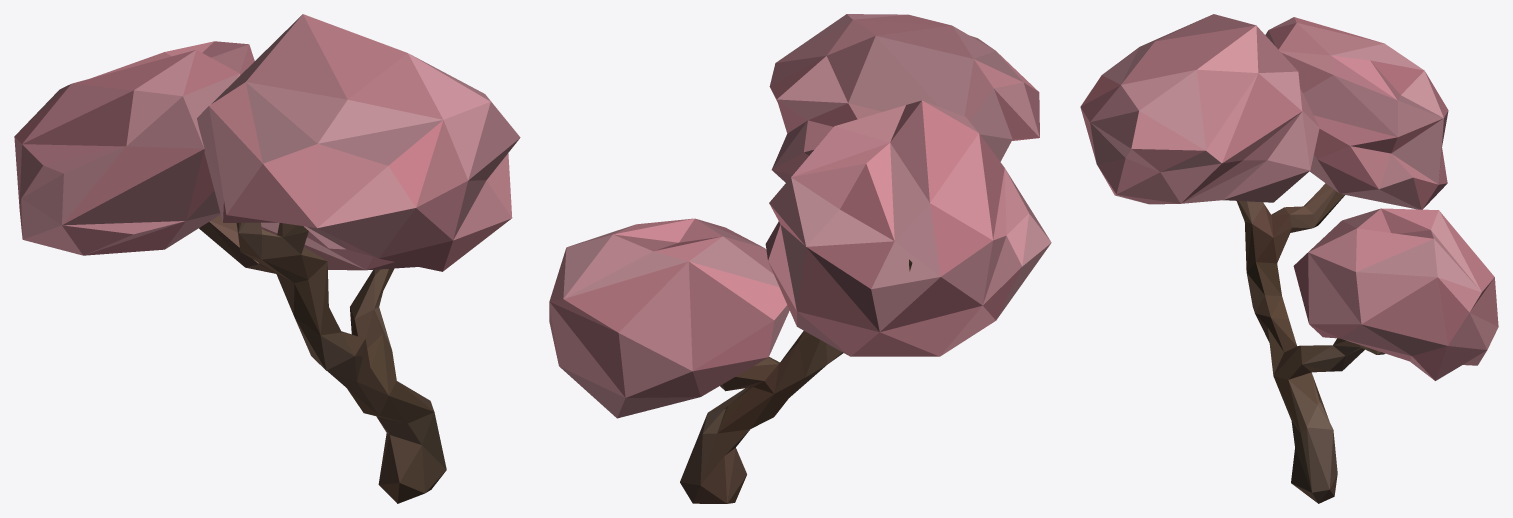
File: Tree_BlossomB__cv1.fbx
The picture shows the model from 3 angles, left to right: view 1: azimuth 30°, elevation 25°; view 2: azimuth 150°, elevation 25°; view 3: azimuth 270°, elevation 25°; orthographic projection. The views are drawn at different scales.
Parts seen in each view (by area): view 1: Tree_BlossomB; view 2: Tree_BlossomB; view 3: Tree_BlossomB.
Boxes of the visible parts, box(x1,y1,x2,y2) form: Tree_BlossomB: box(14, 14, 520, 503); Tree_BlossomB: box(549, 14, 1051, 503); Tree_BlossomB: box(1080, 14, 1498, 503).
Size of the model in its own units: 4.29 by 4.7 by 4.29.
